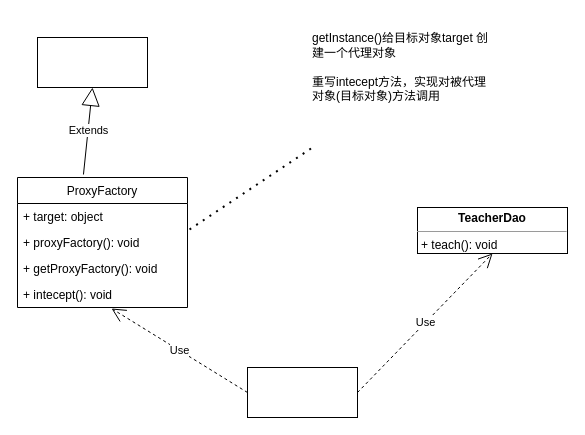
Some shapes in this 585 by 435 pixel diagram are drawn without their labels. Each missing label, with the centre of its shape:
client: point 302,392
«interface» MethodInterceptor: point 92,62
